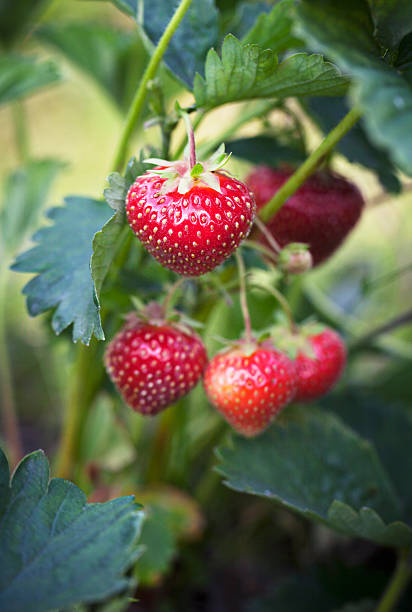Fresa: (124, 159, 258, 282), (104, 309, 207, 428), (204, 336, 298, 447)
